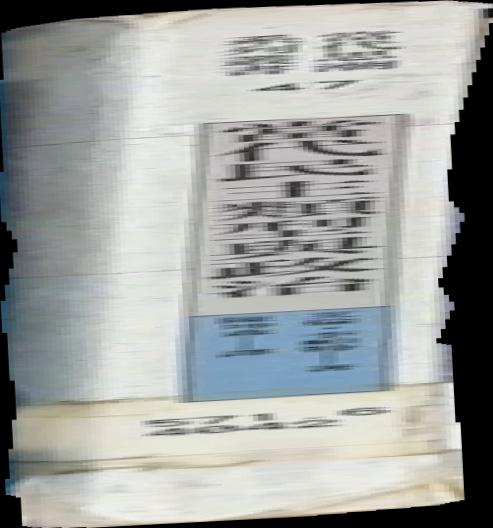book: (1, 1, 493, 528)
